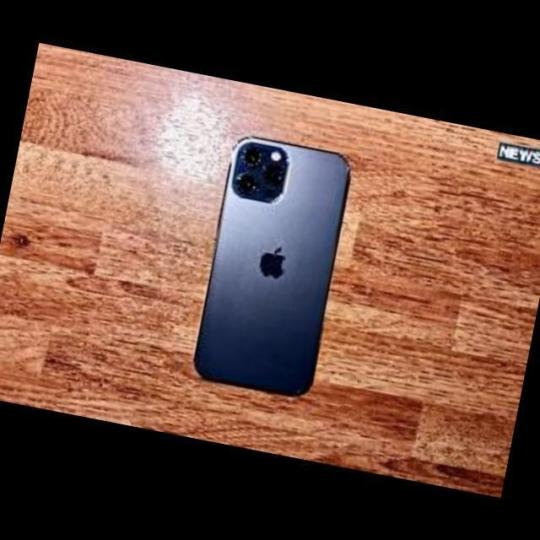phone: (188, 128, 359, 417)
